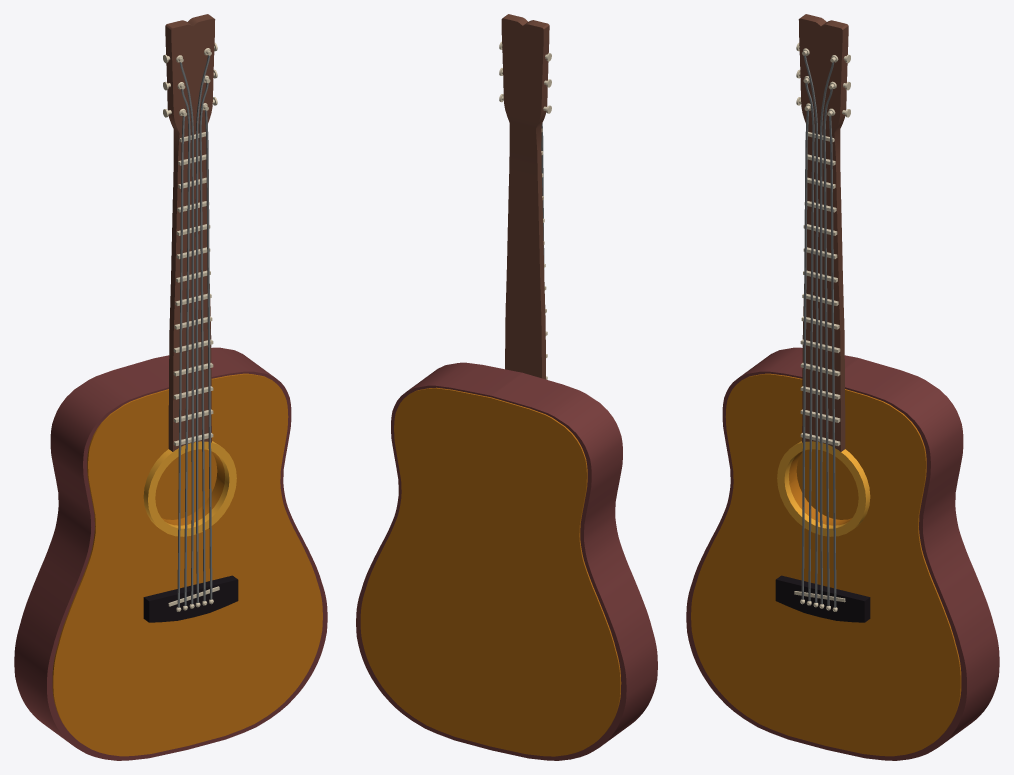
Rendered from guitar.fbx.
The picture shows the model from 3 angles, left to right: view 1: azimuth 30°, elevation 25°; view 2: azimuth 150°, elevation 25°; view 3: azimuth 330°, elevation 25°; orthographic projection. The views are drawn at different scales.
Visible parts, largest first — view 1: guitar; view 2: guitar; view 3: guitar.
Part boxes in pixels (bbox=[...]): guitar: bbox=[14, 14, 327, 760]; guitar: bbox=[356, 14, 657, 760]; guitar: bbox=[686, 14, 999, 760].
Bounding box in the file's own units: 30.28 × 75.36 × 7.96.
